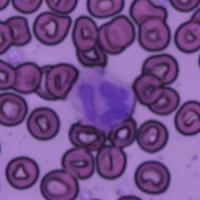N: (71, 68, 136, 132)
